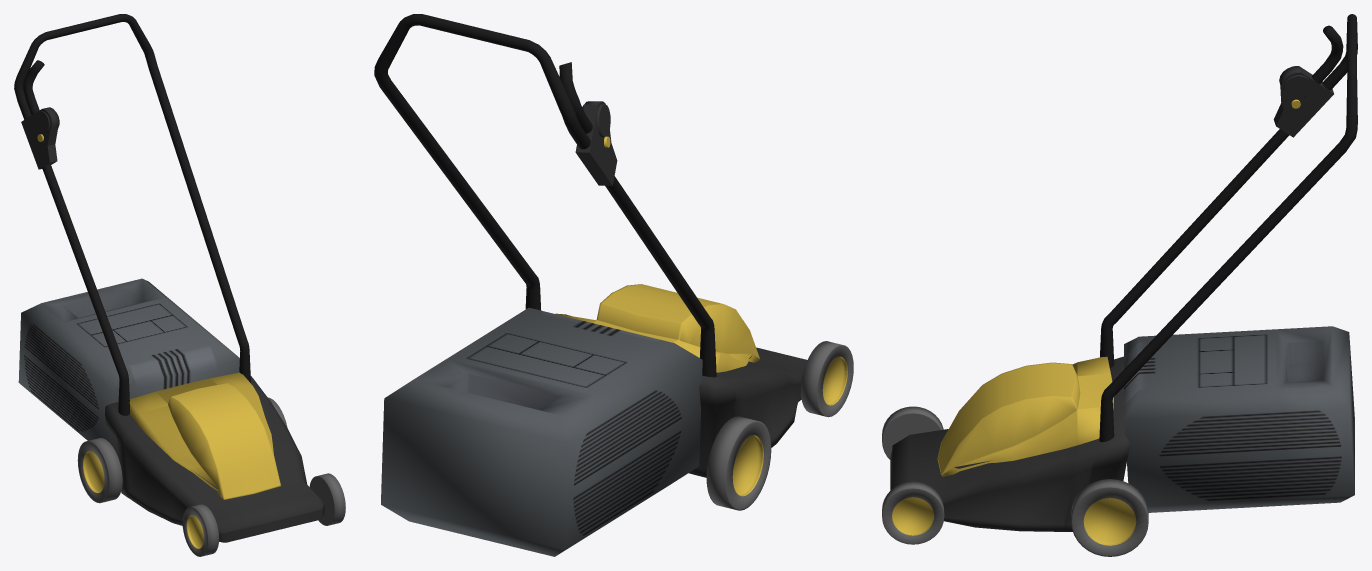
File: sweethome3d-scopia-mower.glb
3 renders of one model, left to right at view 1: azimuth 30°, elevation 25°; view 2: azimuth 150°, elevation 25°; view 3: azimuth 270°, elevation 25°, orthographic. The views are drawn at different scales.
Visible parts, largest first — view 1: Cube.001_Cube.006, mower.002_Cube.001, mower.004_Cube.004, mower_Cube.003, mower.001_Cube.000, Cube, mower.005_Cube.005; view 2: Cube.001_Cube.006, mower_Cube.003, mower.001_Cube.000, mower.004_Cube.004, mower.002_Cube.001, Cube, mower.005_Cube.005; view 3: Cube.001_Cube.006, mower.002_Cube.001, mower.004_Cube.004, mower_Cube.003, mower.001_Cube.000, Cube, mower.005_Cube.005.
Part boxes in pixels (x1,y1,x2,y2): Cube.001_Cube.006: [18, 278, 239, 442]; mower.002_Cube.001: [105, 376, 324, 542]; mower.004_Cube.004: [129, 372, 280, 499]; mower_Cube.003: [14, 14, 250, 415]; mower.001_Cube.000: [77, 397, 345, 556]; Cube: [21, 107, 59, 169]; mower.005_Cube.005: [23, 60, 44, 115]; Cube.001_Cube.006: [381, 307, 702, 556]; mower_Cube.003: [374, 14, 716, 377]; mower.001_Cube.000: [706, 341, 853, 510]; mower.004_Cube.004: [555, 284, 760, 372]; mower.002_Cube.001: [689, 347, 807, 477]; Cube: [575, 101, 617, 185]; mower.005_Cube.005: [559, 62, 592, 133]; Cube.001_Cube.006: [1124, 326, 1354, 512]; mower.002_Cube.001: [890, 356, 1130, 531]; mower.004_Cube.004: [937, 356, 1113, 476]; mower_Cube.003: [1099, 14, 1357, 442]; mower.001_Cube.000: [882, 406, 1148, 556]; Cube: [1273, 66, 1333, 137]; mower.005_Cube.005: [1303, 25, 1343, 97].
Size of the model in its own units: 51.04 by 104 by 96.48.
Materials: 5 (1 with a texture image).
